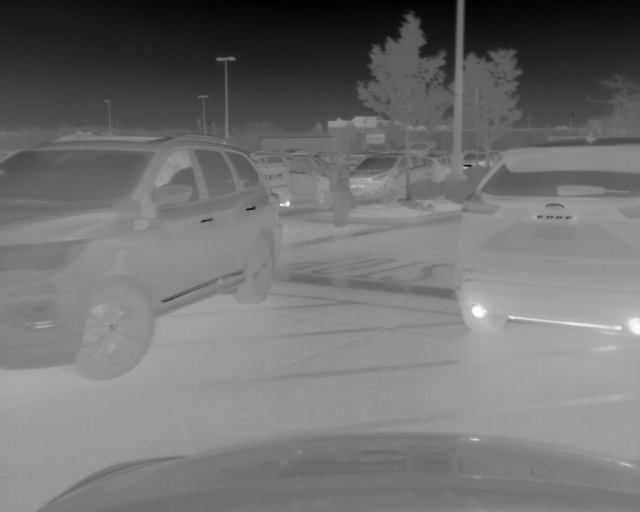car: (1, 131, 283, 378), (458, 138, 640, 339), (251, 149, 334, 213), (345, 151, 435, 203), (293, 152, 335, 180), (461, 149, 501, 170)
people: (330, 153, 351, 227)
